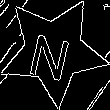N_N: (29, 21, 78, 80)
